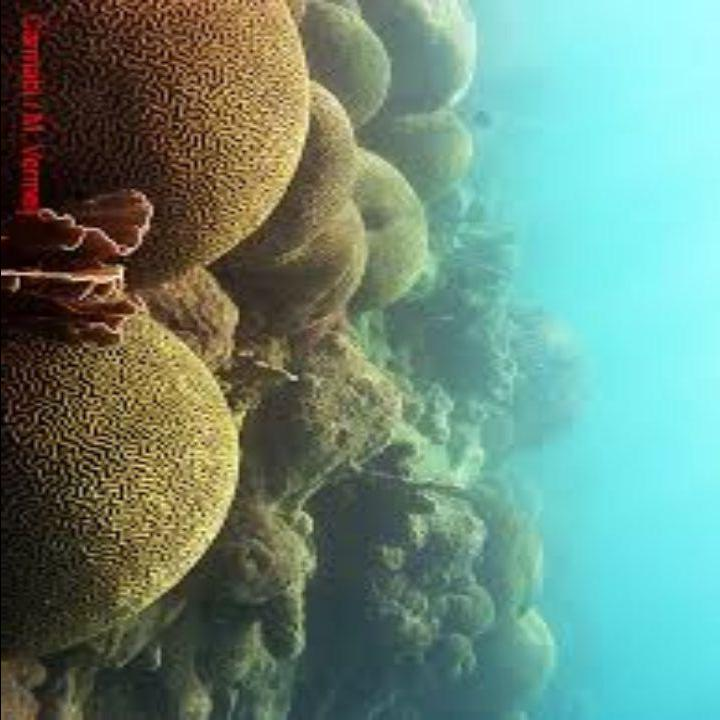Healthy Coral: (38, 10, 473, 671)
